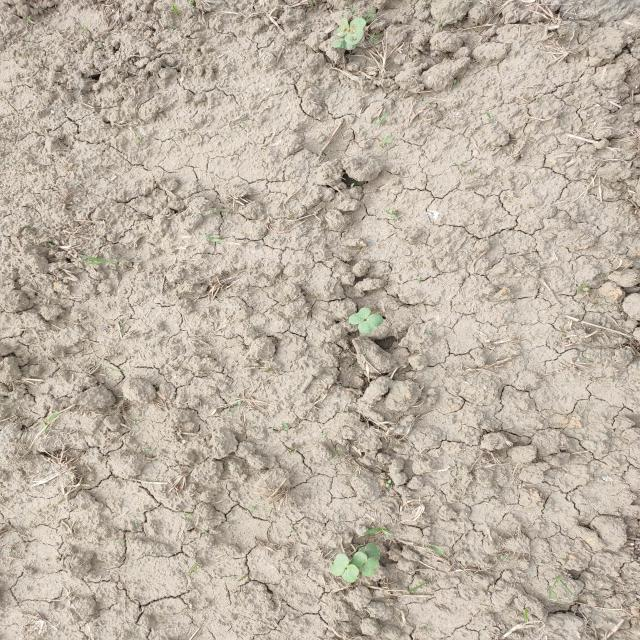seedling: (344, 17, 366, 46), (357, 314, 383, 334), (348, 307, 371, 325), (331, 553, 349, 576), (361, 557, 379, 576), (349, 551, 367, 569), (342, 564, 359, 583), (335, 17, 349, 38), (332, 39, 356, 50), (365, 543, 380, 560)
